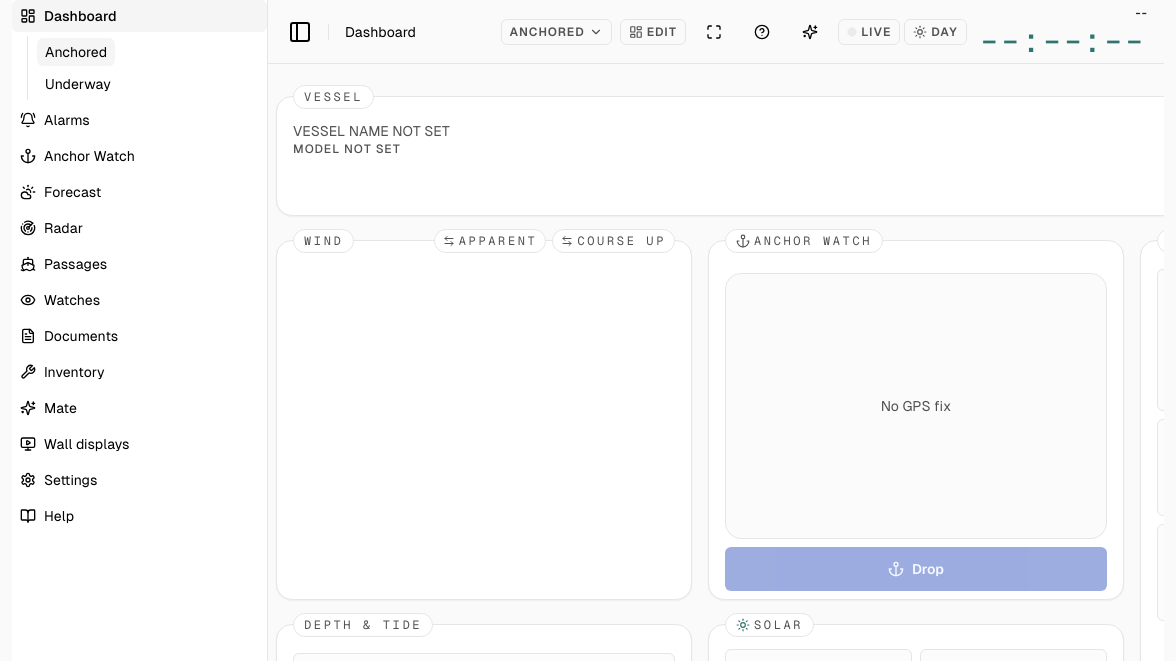
Scenario: App sidebar navigation › opens the Forecast panel when the "Depth & Tide" dashboard tile is clicked
Click the text "Depth & Tide". click: (363, 625)
box: [304, 619, 422, 631]
(page scrolled)
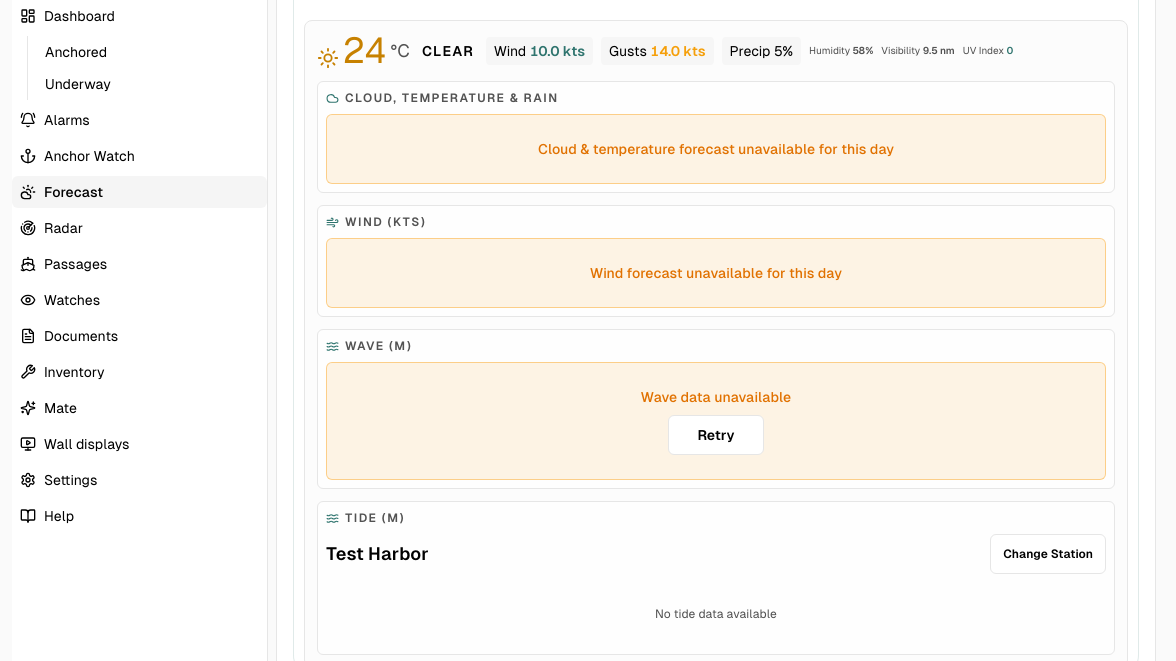
Expected: the button "Depth & Tide" is gone
Expected: the heading "Tide (m)" is shown, [326, 511, 405, 525]
